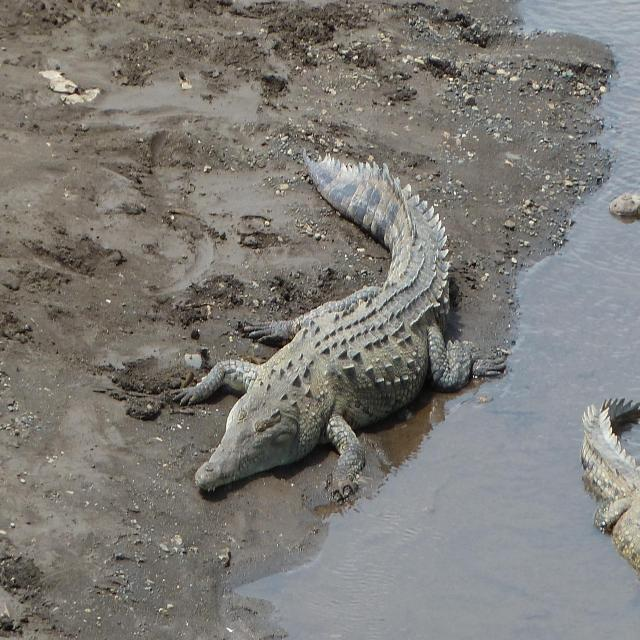crocodile: (139, 131, 545, 529)
